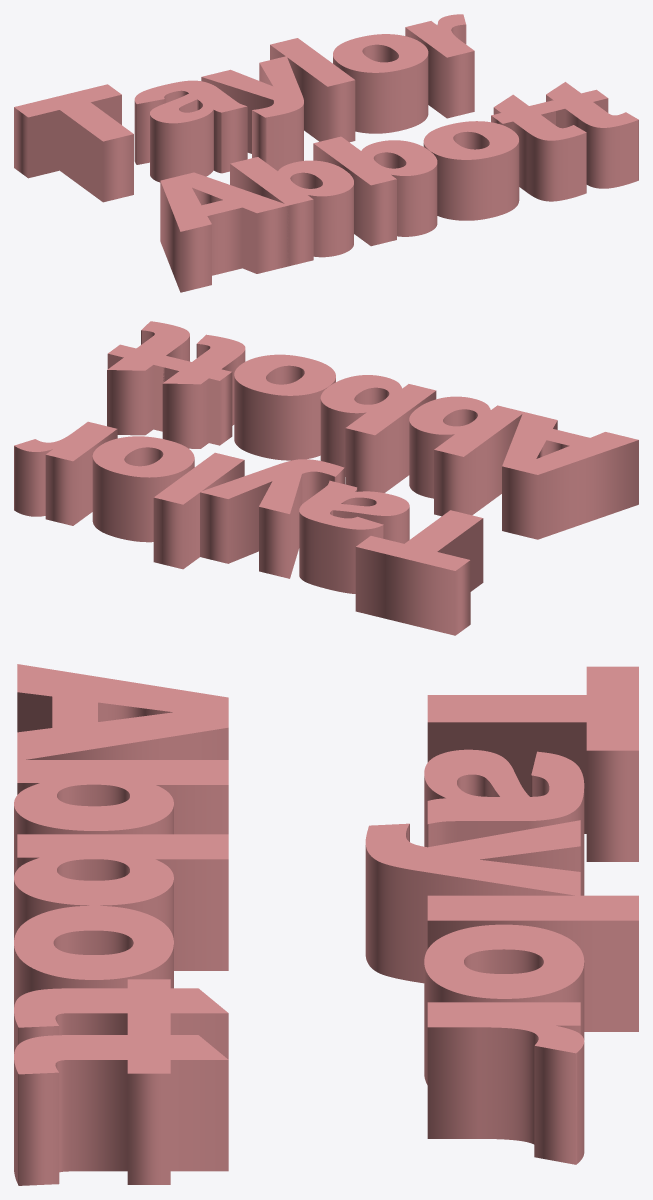
Rendered from name.gltf.
The picture shows the model from 3 angles, top to bottom: view 1: azimuth 30°, elevation 25°; view 2: azimuth 150°, elevation 25°; view 3: azimuth 270°, elevation 25°; orthographic projection. The views are drawn at different scales.
Visible parts, largest first — view 1: Text; view 2: Text; view 3: Text.
Part boxes in pixels (<box>): Text: <box>14,14,638,292</box>; Text: <box>14,321,638,635</box>; Text: <box>14,664,638,1185</box>.
Bounding box in the file's own units: 2.37 × 0.3 × 1.52.
